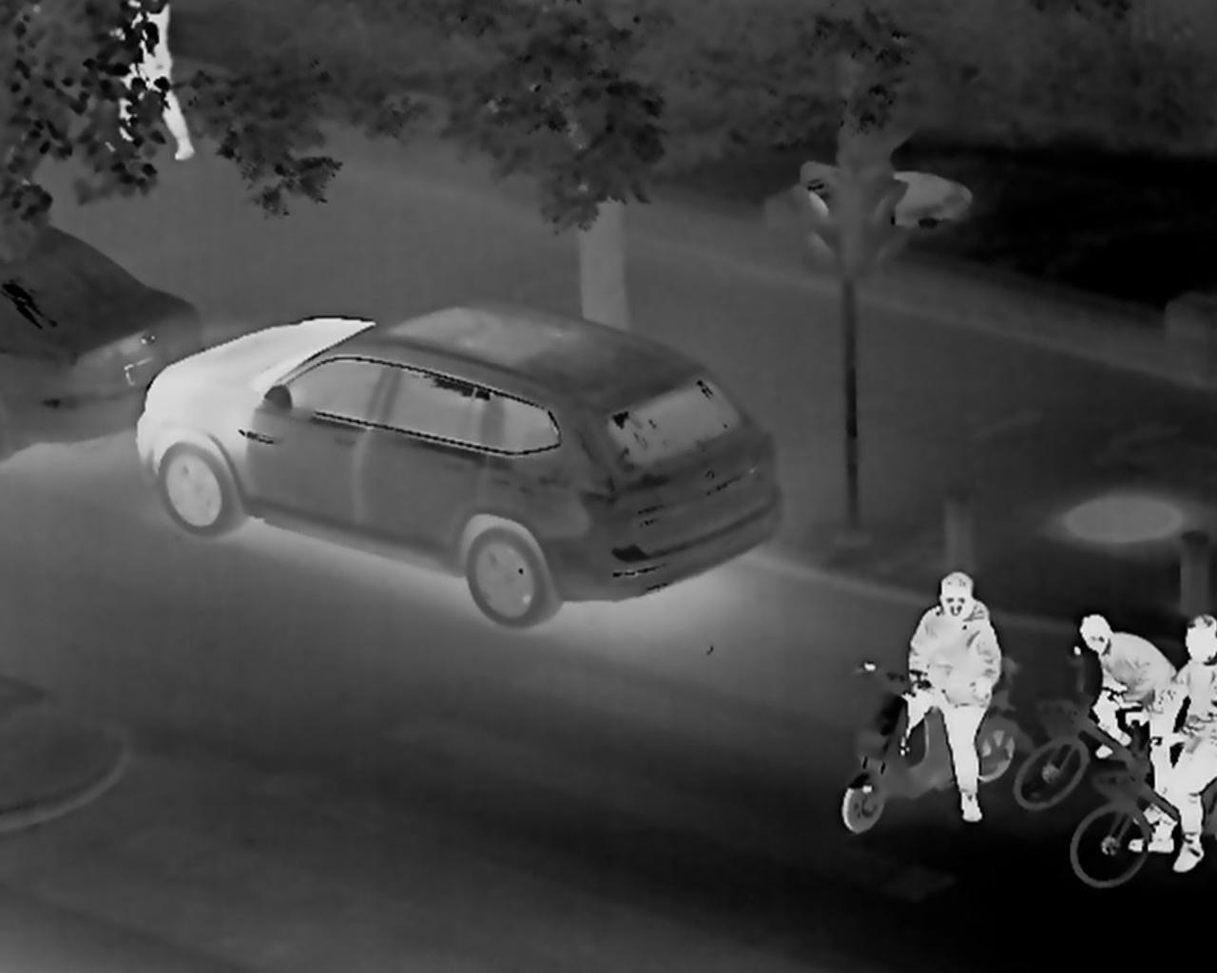person: (888, 565, 1002, 820), (1128, 616, 1217, 878), (1068, 608, 1170, 817), (103, 3, 198, 161)
